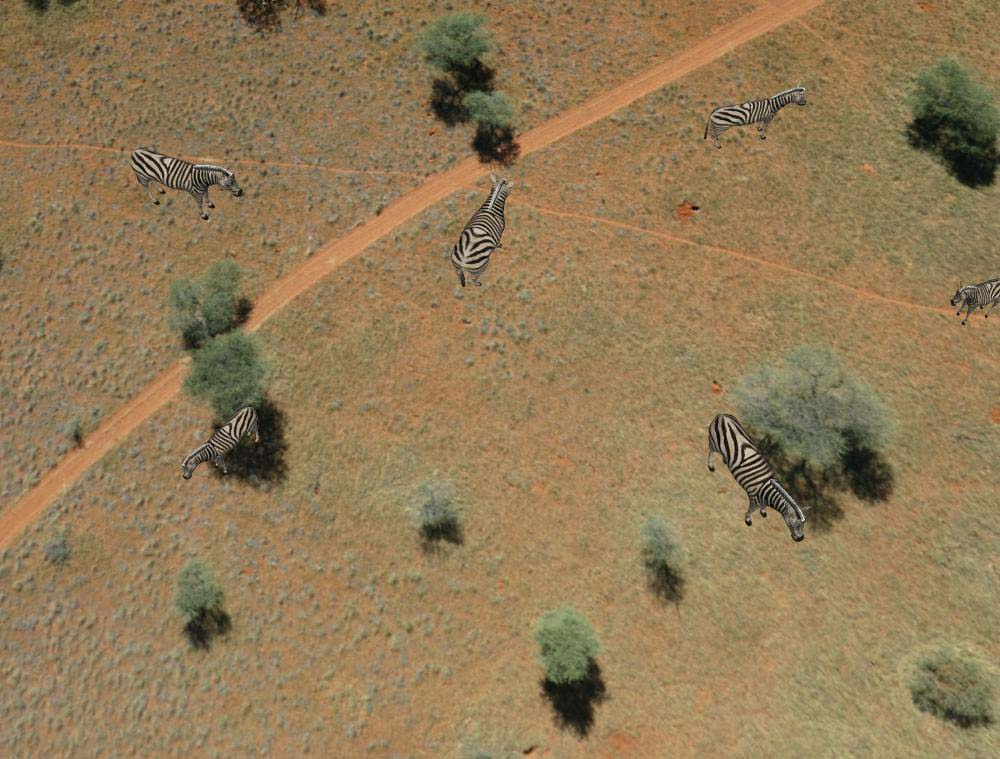zebra: (702, 410, 804, 551), (129, 142, 242, 223), (177, 399, 269, 486), (452, 173, 513, 296), (707, 85, 809, 143), (950, 272, 1000, 324)
